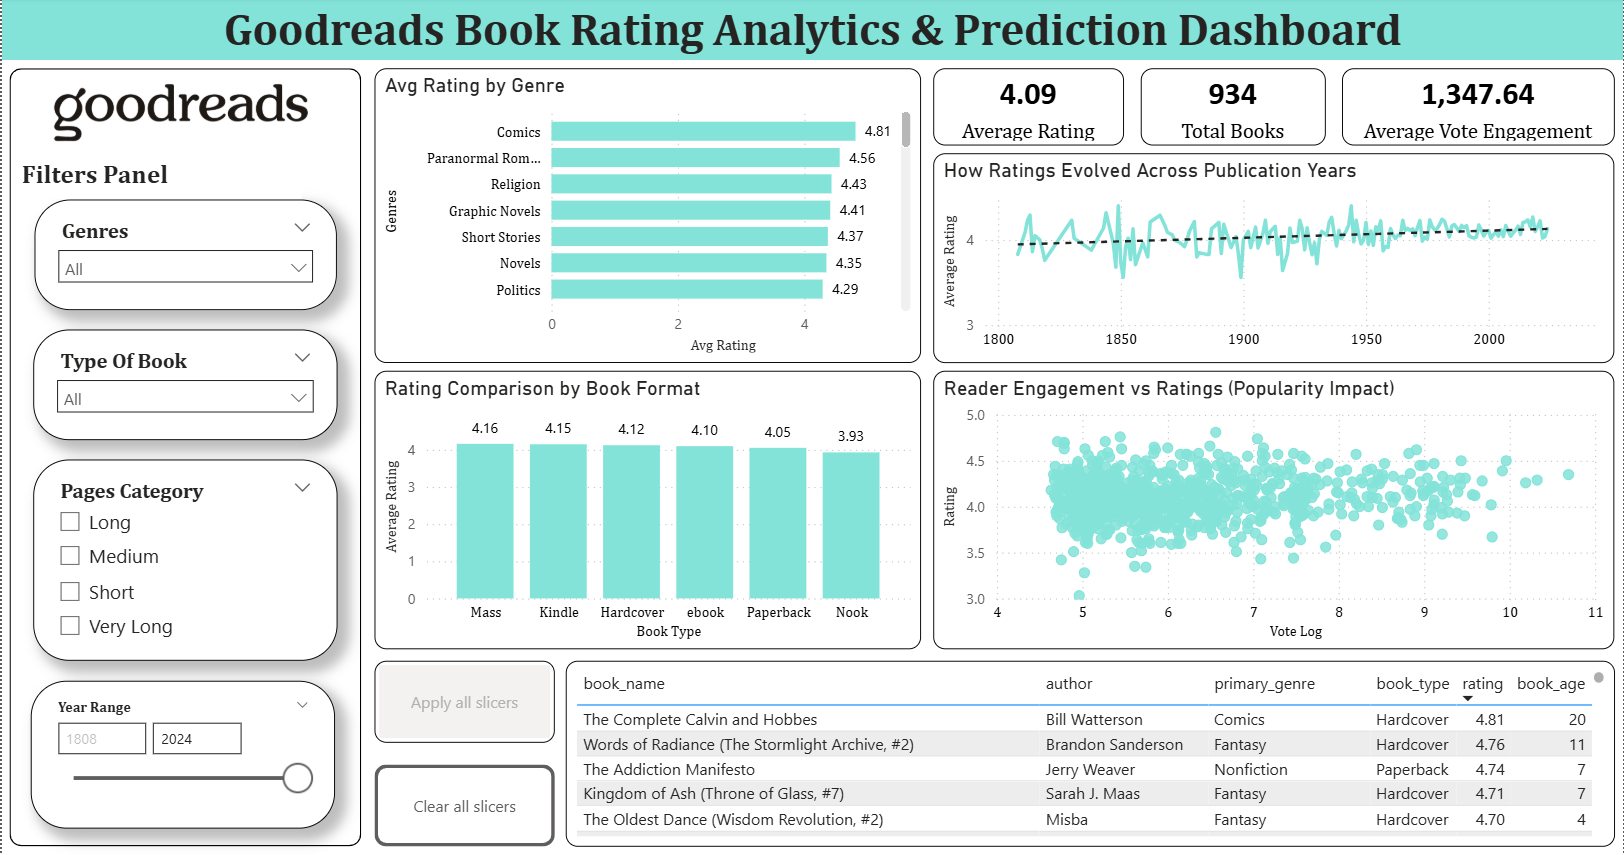

The page's visual inventory and layout, read from the dashboard file:
{"tool":"powerbi","page":{"name":"Business Insights Dashboard","canvas":[1360,720],"ordinal":0},"visuals":[{"type":"shape","box":[0,0,1360,53],"z":0},{"type":"textbox","box":[0,0,1359.7,53.7],"z":1000},{"type":"shape","box":[6.2,60,295,652.5],"z":2000},{"type":"slicer","fields":{"Values":["books_cleaned_data.primary_genre"]},"box":[27.5,170,253.8,92.5],"z":3000},{"type":"slicer","fields":{"Values":["books_cleaned_data.book_type"]},"box":[26.2,278.8,255,92.5],"z":4000},{"type":"slicer","fields":{"Values":["books_cleaned_data.pages_category"]},"box":[26.4,388.3,255,168.9],"z":5000},{"type":"slicer","fields":{"Values":["books_cleaned_data.first_published_year"]},"box":[23.8,573.8,255,123.8],"z":6000},{"type":"textbox","box":[11.9,131.2,239.9,38.4],"z":7000},{"type":"image","box":[0,63.8,301.2,65],"z":8000},{"type":"card","fields":{"Values":["books_cleaned_data.Average Rating"]},"box":[781.2,60,160,65],"z":9000},{"type":"card","fields":{"Values":["books_cleaned_data.Total Books"]},"box":[955,60,155,65],"z":10000},{"type":"card","fields":{"Values":["books_cleaned_data.Average Vote Engagement"]},"box":[1123.8,60,228.8,65],"z":11000},{"type":"clusteredBarChart","title":"Avg Rating by Genre","fields":{"Y":["books_cleaned_data.Average Rating"],"Category":["books_cleaned_data.primary_genre"]},"box":[312.5,60,458.8,247.5],"z":12000},{"type":"columnChart","title":"Rating Comparison by Book Format","fields":{"Y":["books_cleaned_data.Average Rating"],"Category":["books_cleaned_data.book_type"]},"box":[312.5,313.8,458.8,233.8],"z":13000},{"type":"lineChart","title":"How Ratings Evolved Across Publication Years","fields":{"Y":["books_cleaned_data.Average Rating"],"Category":["books_cleaned_data.first_published_year"]},"box":[781.2,131.2,571.2,176.2],"z":14000},{"type":"tableEx","fields":{"Values":["books_cleaned_data.book_name","books_cleaned_data.author","books_cleaned_data.primary_genre","books_cleaned_data.book_type","books_cleaned_data.rating","books_cleaned_data.book_age"]},"box":[472.5,556.2,880,156.2],"z":15000},{"type":"scatterChart","title":"Reader Engagement vs Ratings (Popularity Impact)","fields":{"X":["books_cleaned_data.votes_log"],"Y":["books_cleaned_data.rating"]},"box":[781.2,313.8,571.2,233.8],"z":16000},{"type":"actionButton","box":[312.5,556.2,151.2,68.8],"z":17000},{"type":"actionButton","box":[312.5,643.8,151.2,68.8],"z":18000}]}

Visuals, with their boxes in screenshot pixels (x1, y1, x2, y2), scaled from the page's 1360x720 canvas onto the 1624x855 screenshot:
shape: 0:0:1623:63
textbox: 0:0:1623:64
shape: 7:71:360:846
slicer - books_cleaned_data.primary_genre: 33:202:336:312
slicer - books_cleaned_data.book_type: 31:331:336:441
slicer - books_cleaned_data.pages_category: 32:461:336:662
slicer - books_cleaned_data.first_published_year: 28:681:333:828
textbox: 14:156:301:201
image: 0:76:360:153
card - books_cleaned_data.Average Rating: 933:71:1124:148
card - books_cleaned_data.Total Books: 1140:71:1325:148
card - books_cleaned_data.Average Vote Engagement: 1342:71:1615:148
"Avg Rating by Genre" clusteredBarChart: 373:71:921:365
"Rating Comparison by Book Format" columnChart: 373:373:921:650
"How Ratings Evolved Across Publication Years" lineChart: 933:156:1615:365
tableEx - books_cleaned_data.book_name x books_cleaned_data.author: 564:660:1615:846
"Reader Engagement vs Ratings (Popularity Impact)" scatterChart: 933:373:1615:650
actionButton: 373:660:554:742
actionButton: 373:765:554:846
